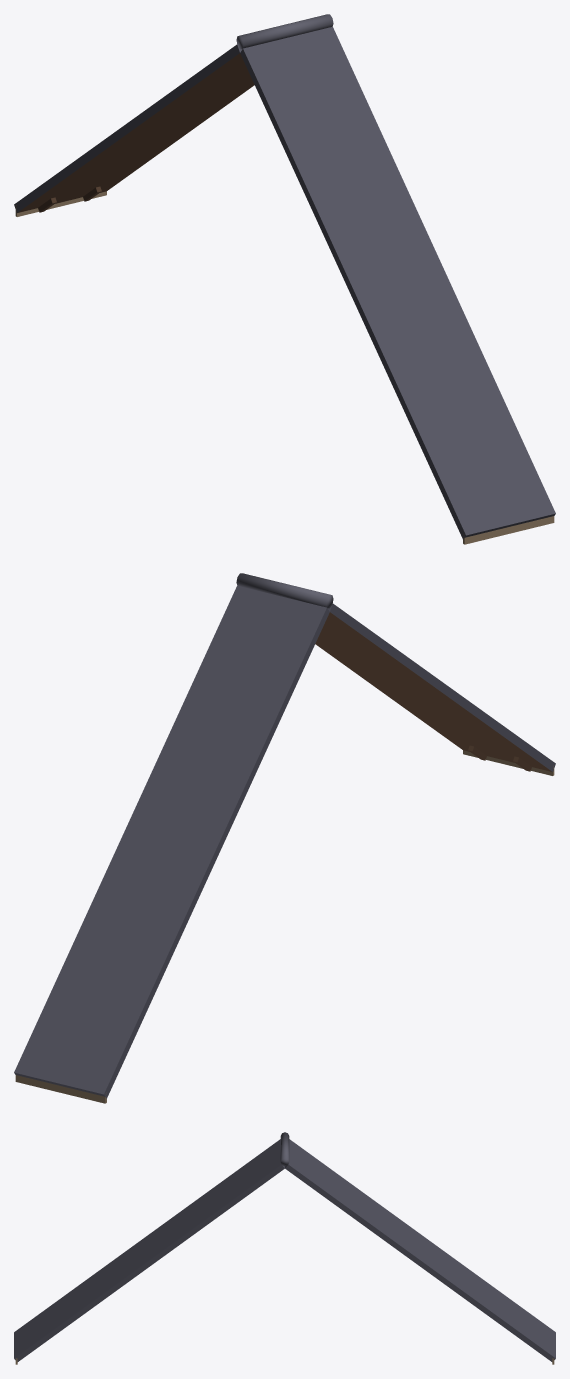
Rendered from kit_clapboard_slate_w8.glb.
The picture shows the model from 3 angles, top to bottom: view 1: azimuth 30°, elevation 25°; view 2: azimuth 150°, elevation 25°; view 3: azimuth 270°, elevation 25°; orthographic projection. The views are drawn at different scales.
Visible parts, largest first — view 1: kit_clapboard_slate_w8; view 2: kit_clapboard_slate_w8; view 3: kit_clapboard_slate_w8.
Boxes of the visible parts, box(x1,y1,x2,y2) form: kit_clapboard_slate_w8: box(14, 14, 555, 544); kit_clapboard_slate_w8: box(14, 573, 555, 1103); kit_clapboard_slate_w8: box(14, 1132, 555, 1364).
Size of the model in its own units: 1 by 3.66 by 8.71.
